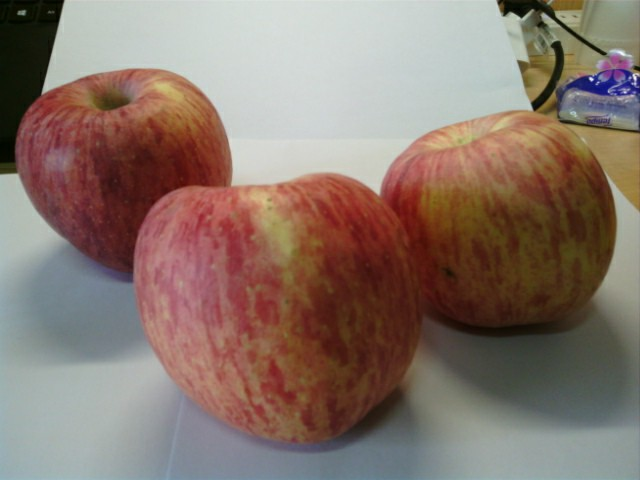normal_apple: (135, 172, 421, 449), (380, 110, 621, 336), (15, 66, 234, 276)
